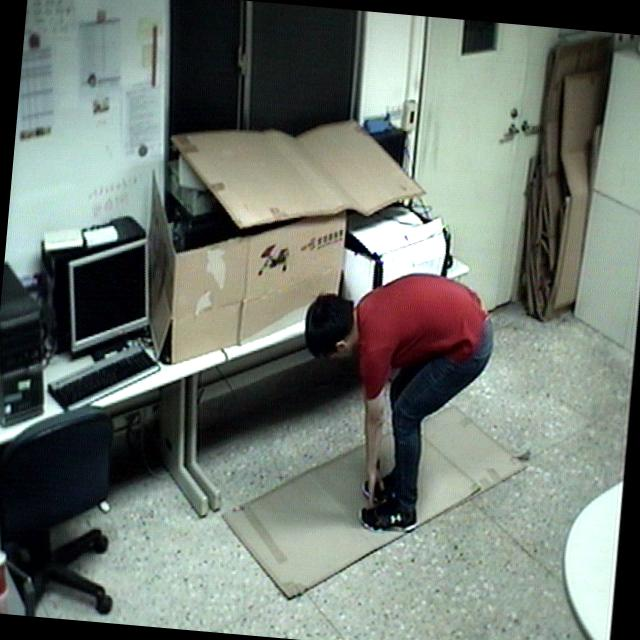bend: (283, 257, 498, 544)
